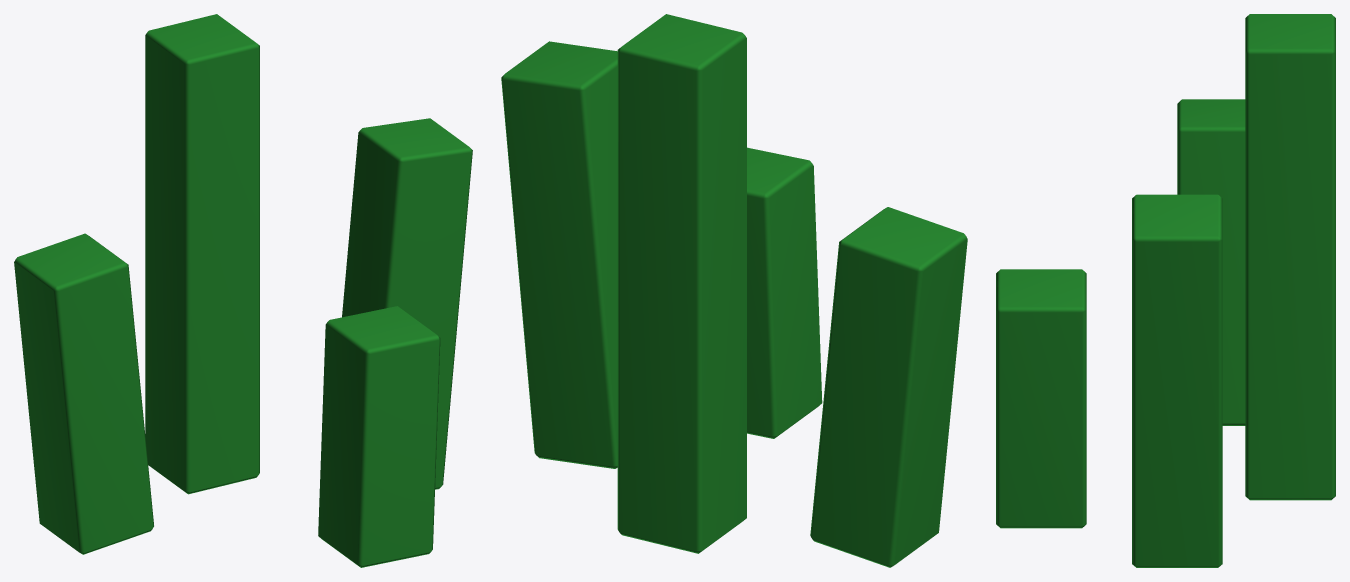
The model's file is BrickGrass.glb.
The picture shows the model from 3 angles, left to right: view 1: azimuth 30°, elevation 25°; view 2: azimuth 150°, elevation 25°; view 3: azimuth 270°, elevation 25°; orthographic projection. The views are drawn at different scales.
Parts seen in each view (by area): view 1: BrickGrass; view 2: BrickGrass; view 3: BrickGrass.
Part boxes in pixels (x1,y1,x2,y2): BrickGrass: (14,14,472,567); BrickGrass: (501,14,967,567); BrickGrass: (996,14,1335,567).
Bounding box in the file's own units: 1.05 × 1.11 × 0.75.
1 material, 1 textured.
